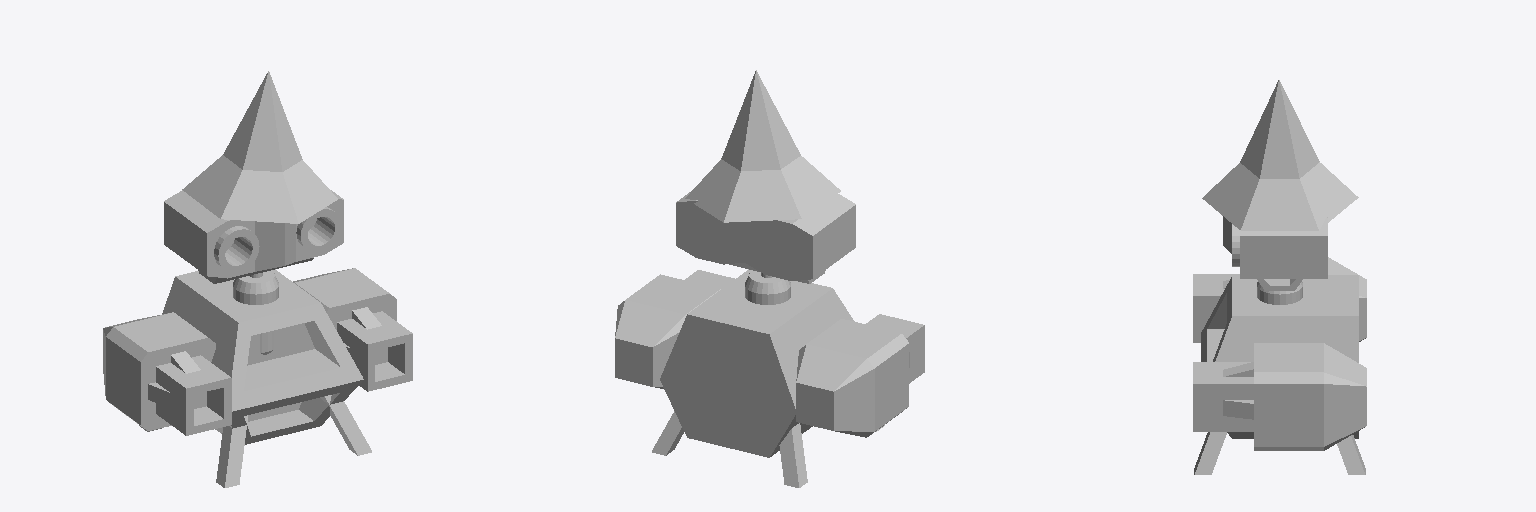
Rendered from walking_01_04.obj.
3 renders of one model, left to right at view 1: azimuth 30°, elevation 25°; view 2: azimuth 150°, elevation 25°; view 3: azimuth 270°, elevation 25°, orthographic.
Parts seen in each view (by area): view 1: mergedBlocks; view 2: mergedBlocks; view 3: mergedBlocks.
Boxes of the visible parts, x1,y1,x2,y2 form: mergedBlocks: [103, 71, 412, 487]; mergedBlocks: [615, 70, 924, 487]; mergedBlocks: [1193, 80, 1366, 474].
Size of the model in its own units: 1.87 by 2.55 by 1.1.